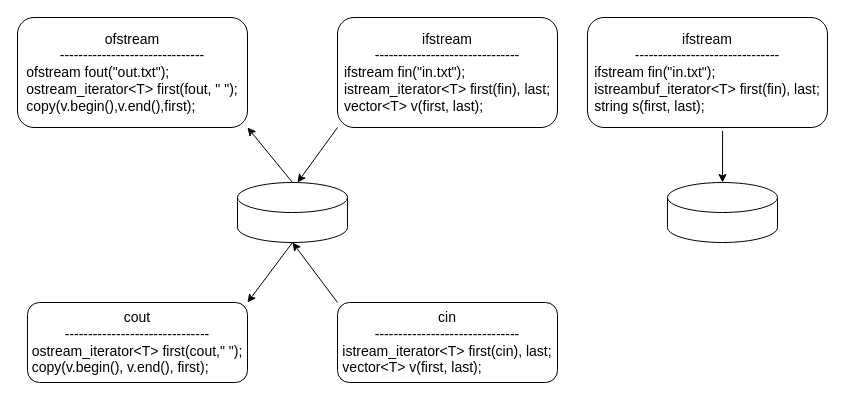
This 845x400 diagram has some shape labels left out. Each missing label, with the centre of its shape:
"container" belongs at point 292,212.
"string" belongs at point 722,212.
